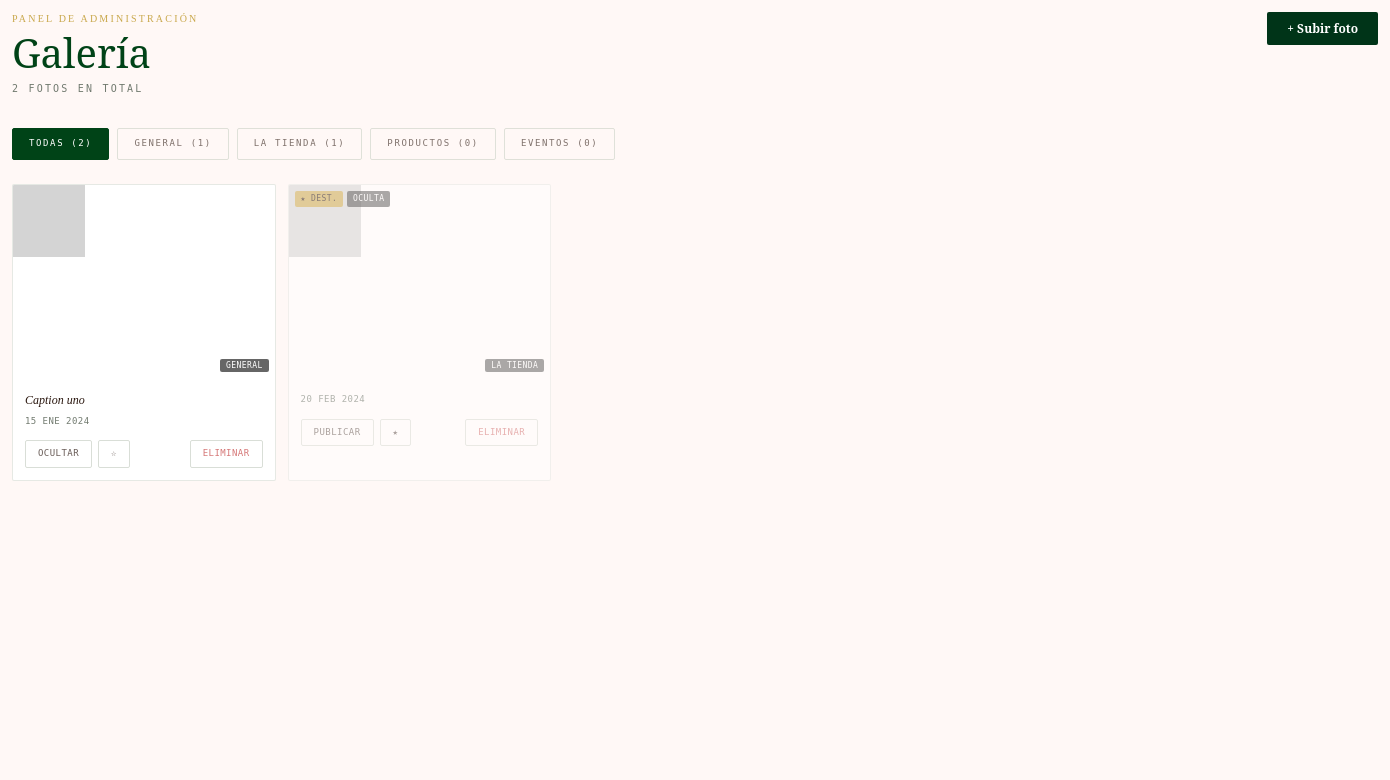
Test case: AdminGaleriaClient › shows error toast on delete failure
Click the button "Eliminar" below "15 ene 2024" at (226, 454), box x1=190 y1=440 x2=263 y2=468
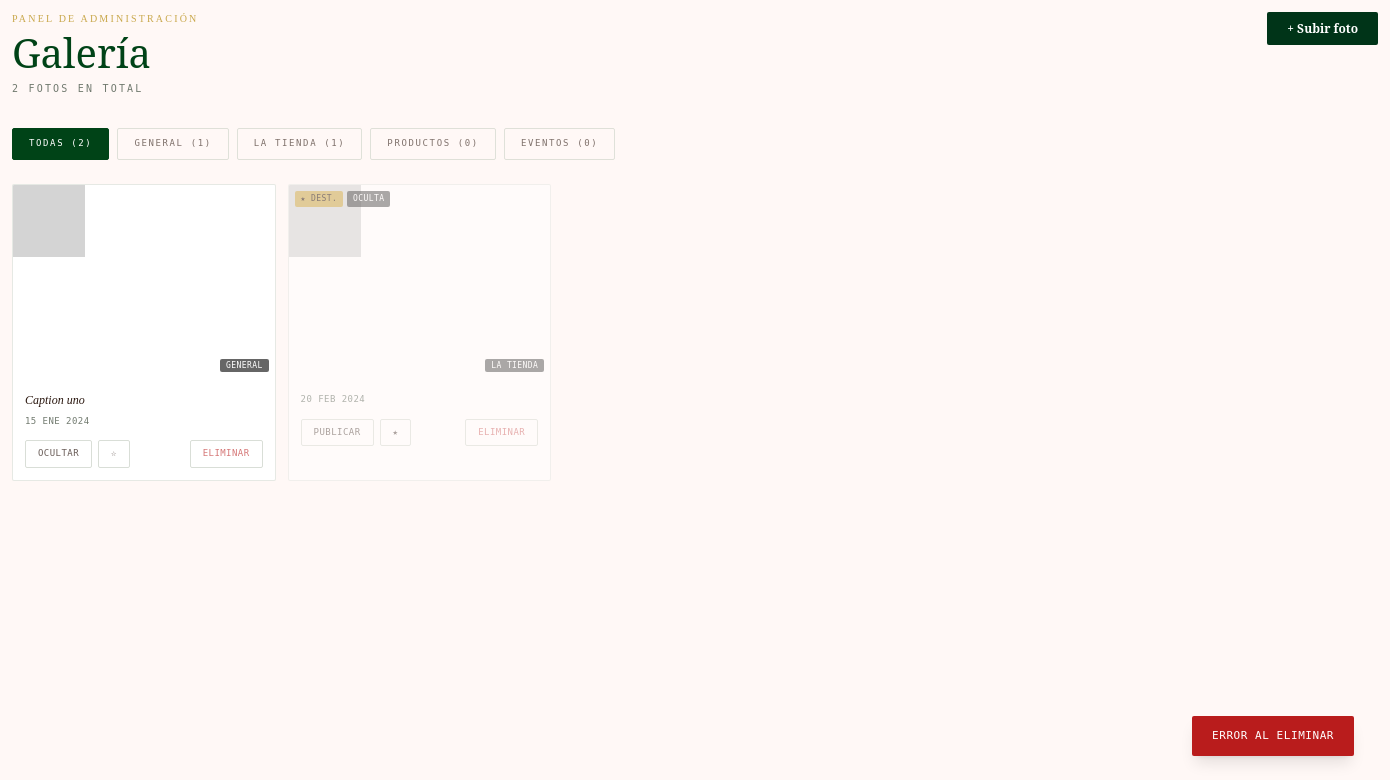
expect the text "Error al eliminar" is shown: met, box x1=1192 y1=716 x2=1354 y2=756
